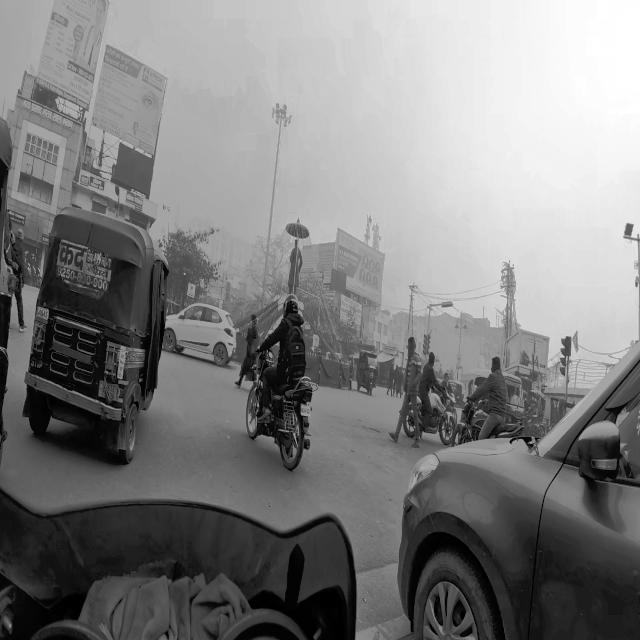Auto-Rickshaw: (30, 202, 171, 476)
Bike: (250, 287, 320, 477), (454, 369, 516, 445), (404, 366, 451, 444)
Car: (395, 319, 640, 640), (162, 300, 238, 368)
Toto: (357, 347, 380, 398)
